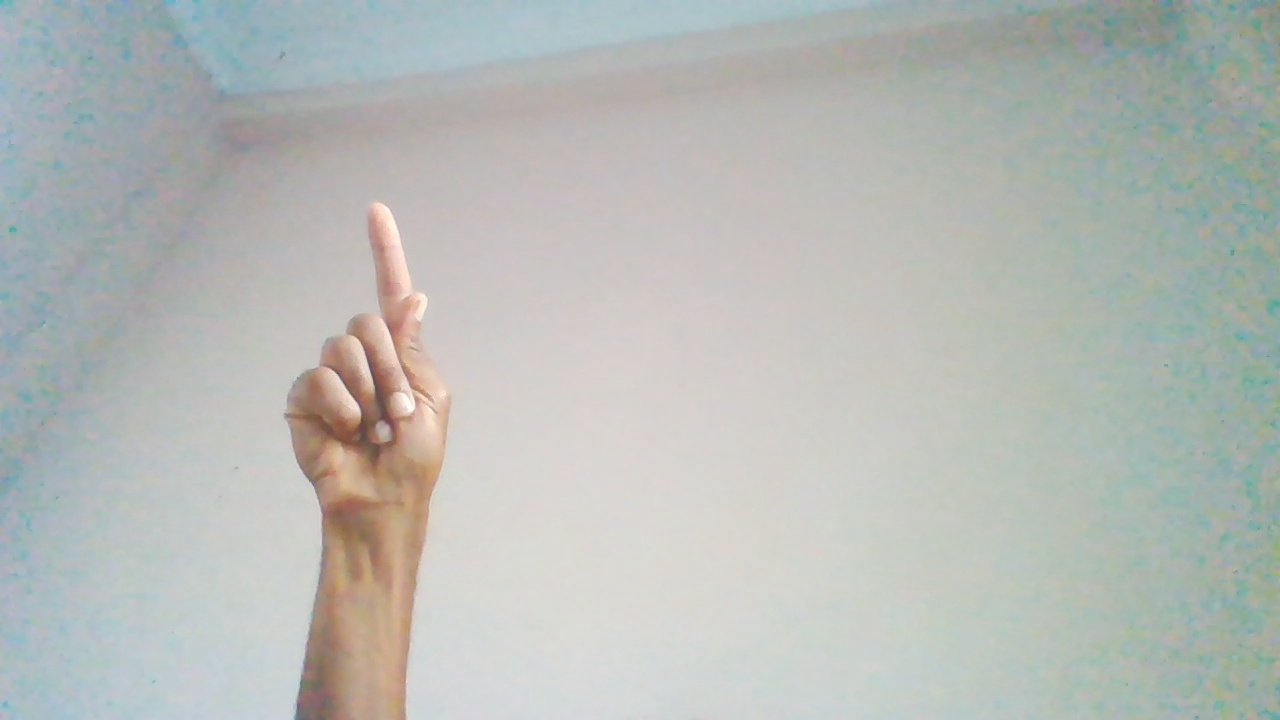ne: (282, 203, 454, 600)
